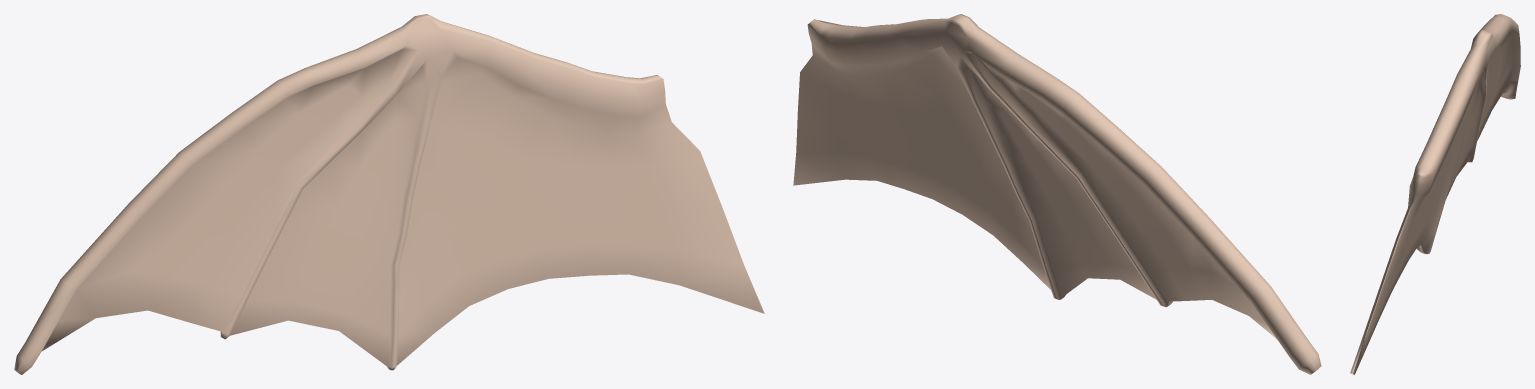
Rendered from r_large_wing.fbx.
3 renders of one model, left to right at view 1: azimuth 30°, elevation 25°; view 2: azimuth 150°, elevation 25°; view 3: azimuth 270°, elevation 25°, orthographic. The views are drawn at different scales.
Parts seen in each view (by area): view 1: polySurface1; view 2: polySurface1; view 3: polySurface1.
Part boxes in pixels (x1,y1,x2,y2): polySurface1: (14,14,764,374); polySurface1: (793,14,1321,374); polySurface1: (1350,14,1520,374).
Bounding box in the file's own units: 204 × 92.52 × 57.55.
